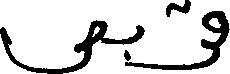X: (0, 15, 105, 73), (183, 0, 211, 73), (213, 6, 229, 67), (135, 20, 142, 71)
